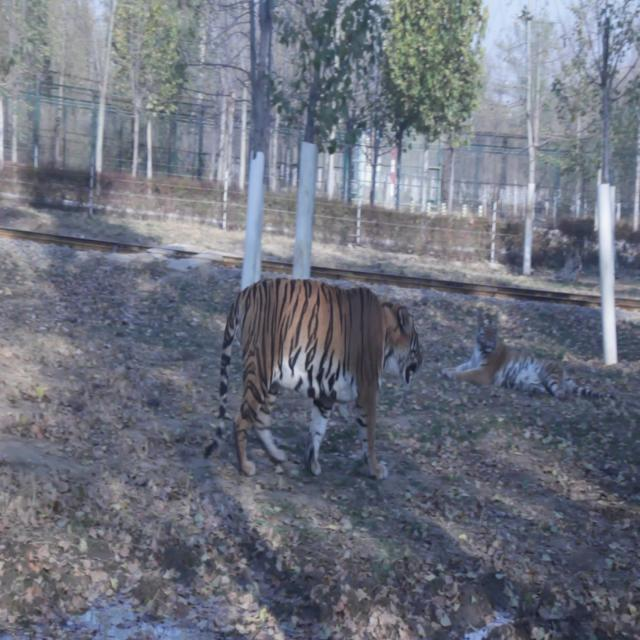Tiger: (198, 268, 424, 504), (450, 305, 598, 423)
